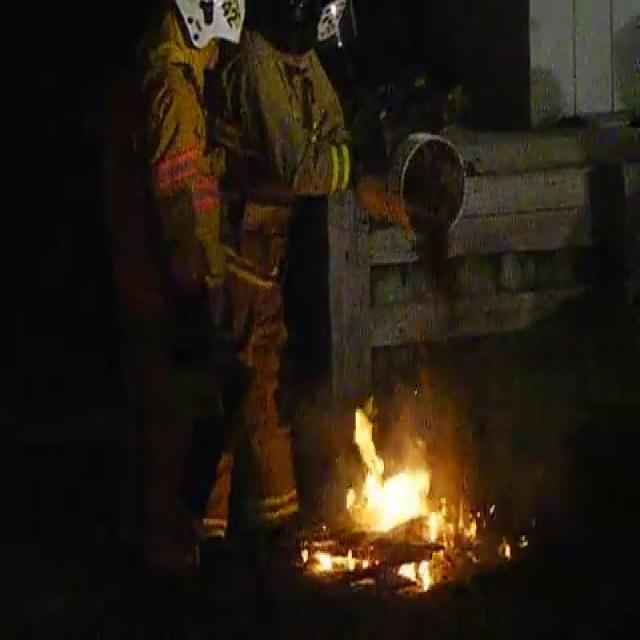Fire: (354, 428, 451, 586), (357, 435, 440, 561)
